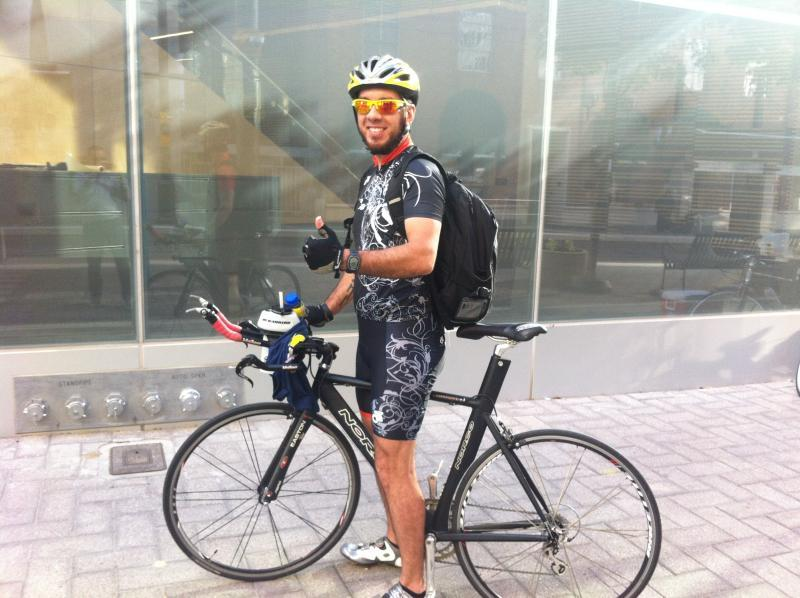helmet: (344, 52, 423, 96)
